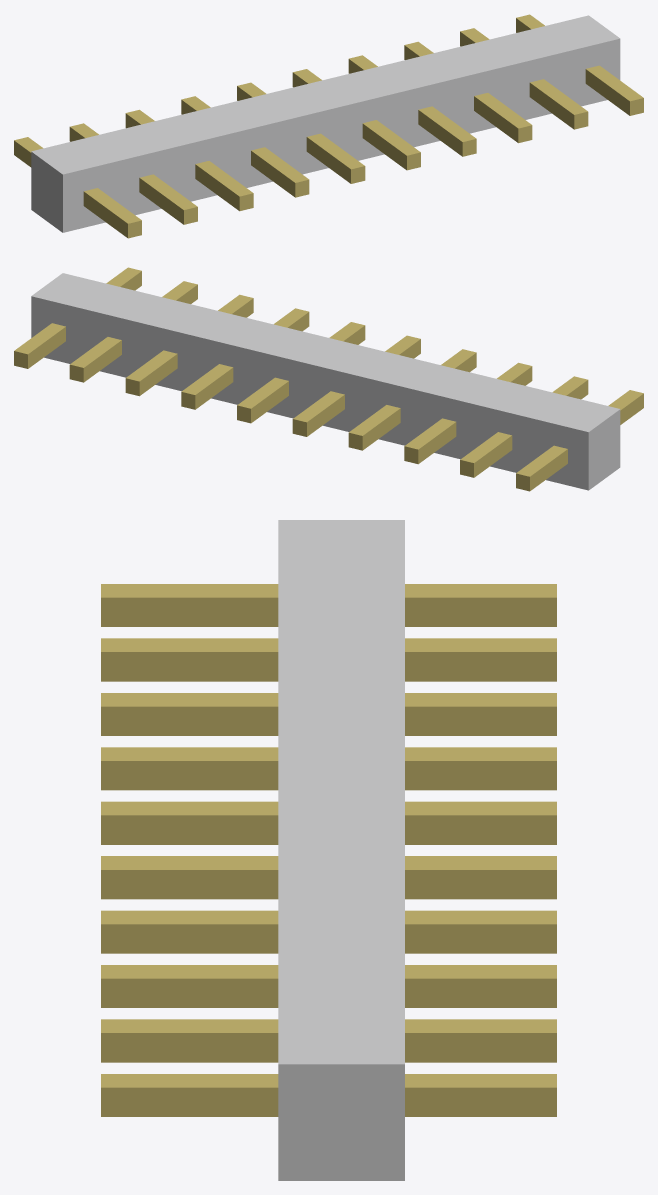
The model's file is pin_header_254_10pin.glb.
3 renders of one model, top to bottom at view 1: azimuth 30°, elevation 25°; view 2: azimuth 150°, elevation 25°; view 3: azimuth 270°, elevation 25°, orthographic. The views are drawn at different scales.
Visible parts, largest first — view 1: housing, pins; view 2: housing, pins; view 3: pins, housing.
Part boxes in pixels (<box>): housing: <box>31,15,620,232</box>; pins: <box>14,14,643,238</box>; housing: <box>31,273,620,490</box>; pins: <box>14,267,643,491</box>; pins: <box>101,584,556,1116</box>; housing: <box>278,520,404,1180</box>.
Size of the model in its own units: 25.4 by 2.54 by 9.
